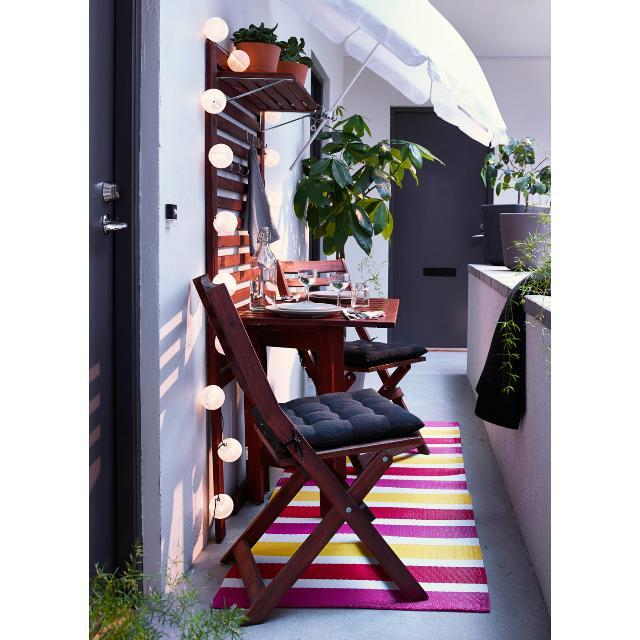chair: (194, 275, 430, 624)
plant: (482, 138, 552, 269)
rug: (279, 421, 492, 612), (253, 481, 320, 582)
table: (238, 299, 400, 394)
